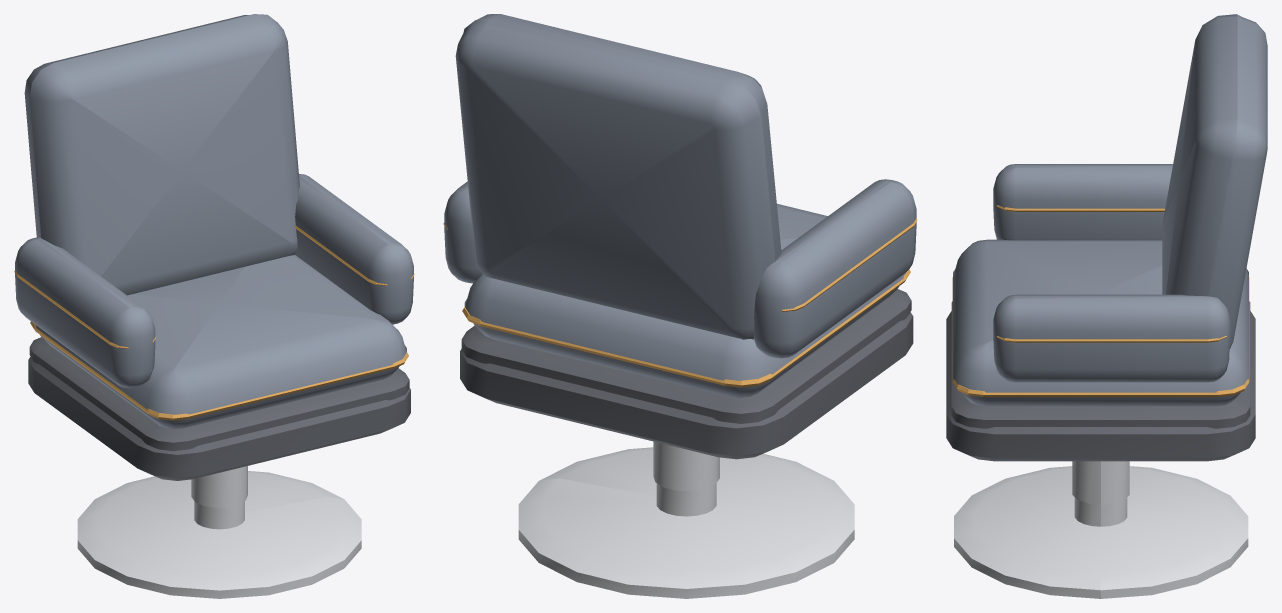
Rendered from office-lobby-and-facilities-lobby-armchair-b7009456.glb.
The picture shows the model from 3 angles, left to right: view 1: azimuth 30°, elevation 25°; view 2: azimuth 150°, elevation 25°; view 3: azimuth 270°, elevation 25°; orthographic projection. The views are drawn at different scales.
Parts seen in each view (by area): view 1: lobby-armchair; view 2: lobby-armchair; view 3: lobby-armchair.
Part boxes in pixels (x1,y1,x2,y2): lobby-armchair: [14, 14, 414, 598]; lobby-armchair: [443, 14, 917, 598]; lobby-armchair: [946, 14, 1267, 598].
Size of the model in its own units: 0.678 by 0.9681 by 0.6022.
